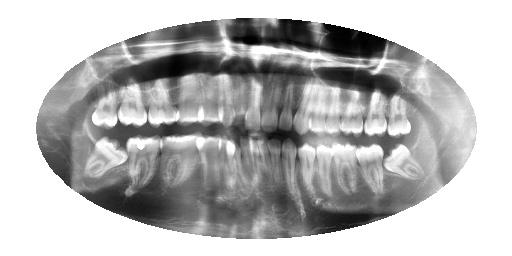i10healthy: (236, 126, 256, 202)
i11chipped: (225, 132, 248, 201)
i12healthy: (214, 130, 237, 202)
i13healthy: (193, 128, 228, 204)
i14healthy: (157, 129, 208, 194)
i15healthy: (119, 128, 168, 204)
i16healthy: (79, 131, 132, 192)
i1healthy: (380, 133, 425, 188)
i2healthy: (351, 138, 388, 199)
i3healthy: (327, 134, 361, 199)
i4healthy: (308, 132, 340, 204)
i5healthy: (293, 140, 323, 203)
i6healthy: (275, 132, 302, 203)
i7healthy: (263, 133, 285, 204)
i8healthy: (255, 130, 276, 197)
i9healthy: (245, 131, 264, 197)
u10chipped: (228, 66, 249, 135)
u11chipped: (214, 66, 240, 134)
u13healthy: (175, 64, 207, 132)
u14healthy: (143, 74, 184, 130)
u15healthy: (111, 74, 151, 129)
u16healthy: (83, 75, 123, 134)
u1healthy: (382, 84, 415, 142)
u2healthy: (195, 67, 227, 130), (359, 83, 390, 140)
u3healthy: (337, 77, 371, 140)
u4healthy: (319, 76, 345, 136)
u5healthy: (306, 74, 329, 138)
u6healthy: (290, 76, 315, 138)
u7healthy: (277, 71, 297, 135)
u8healthy: (257, 73, 284, 137)
u9healthy: (242, 73, 264, 135)
